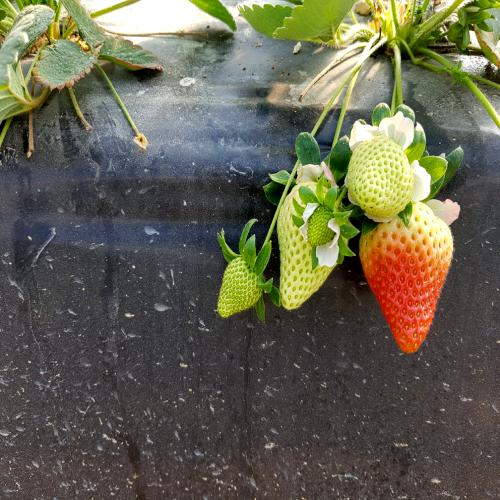partially-ripe: (362, 214, 458, 364)
